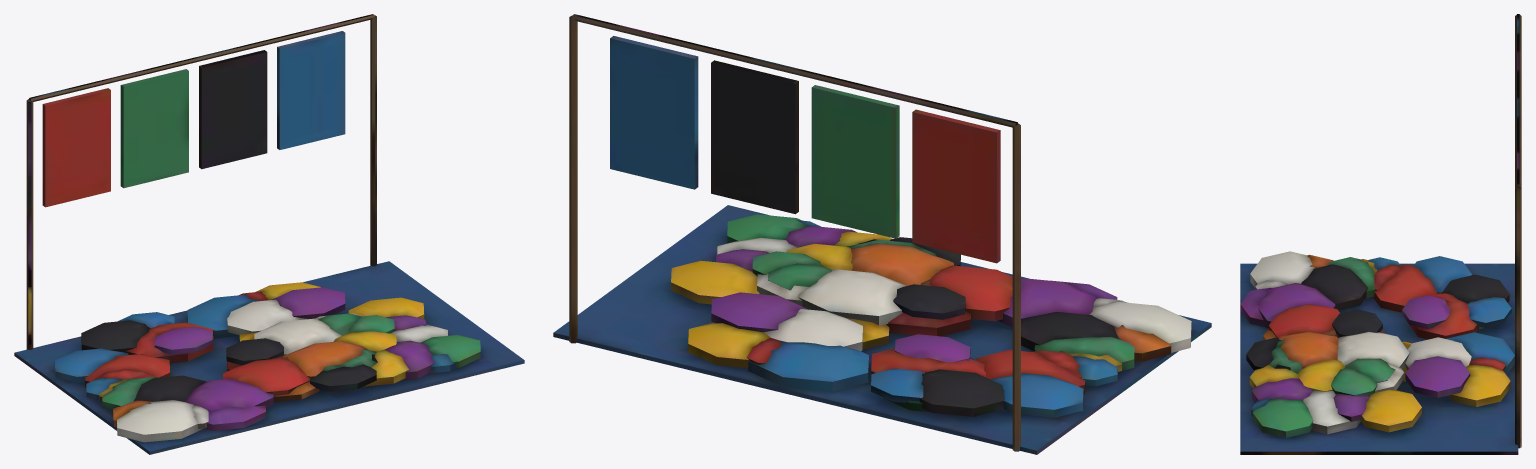
Rendered from clothes_heap.glb.
3 views of the same model, side by side, from view 1: azimuth 30°, elevation 25°; view 2: azimuth 150°, elevation 25°; view 3: azimuth 270°, elevation 25° (orthographic). The views are drawn at different scales.
Parts seen in each view (by area): view 1: body; view 2: body; view 3: body.
Boxes of the visible parts, x1=… form: body: x1=14, y1=14, x2=524, y2=454; body: x1=553, y1=14, x2=1211, y2=454; body: x1=1240, y1=14, x2=1521, y2=454.
Size of the model in its own units: 2.45 by 1.59 by 1.52.
Materials: 1 (1 with a texture image).
